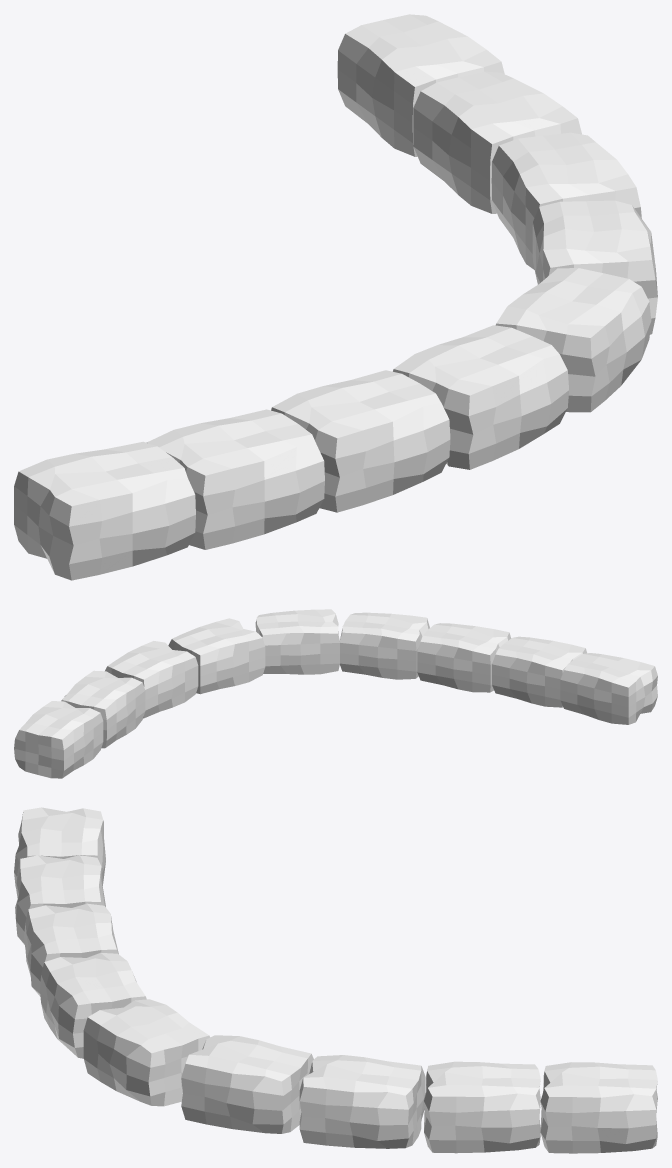
File: Steinmauer_halb.fbx
3 renders of one model, top to bottom at view 1: azimuth 30°, elevation 25°; view 2: azimuth 150°, elevation 25°; view 3: azimuth 270°, elevation 25°, orthographic. The views are drawn at different scales.
Parts seen in each view (by area): view 1: Steinblock.011; view 2: Steinblock.011; view 3: Steinblock.011.
Boxes of the visible parts, box(x1,y1,x2,y2) form: Steinblock.011: box(14, 14, 657, 580); Steinblock.011: box(14, 609, 657, 778); Steinblock.011: box(14, 807, 657, 1153).
Size of the model in its own units: 866 by 89.21 by 804.
